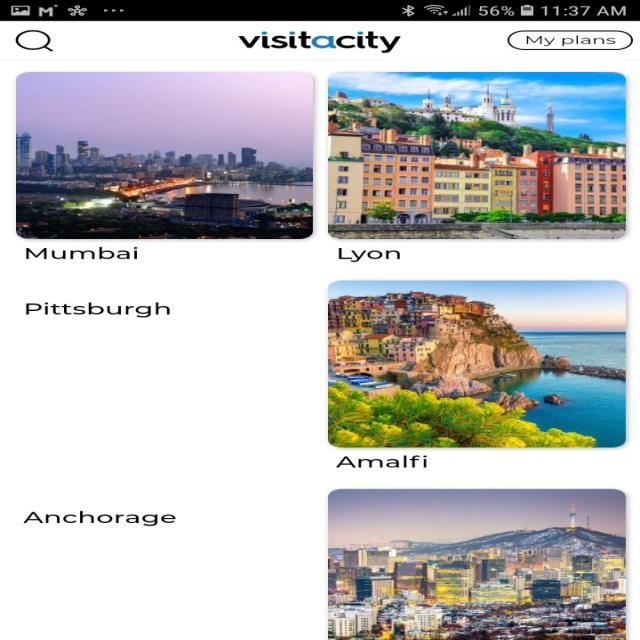Icon: (15, 30, 54, 52)
Image: (327, 280, 626, 448), (15, 71, 313, 239), (327, 71, 625, 239), (327, 488, 626, 640), (237, 31, 401, 53)
Text: (26, 301, 170, 318), (23, 510, 176, 526), (25, 247, 138, 260), (335, 454, 427, 468), (338, 247, 400, 262)
TextButton: (507, 30, 633, 50)
